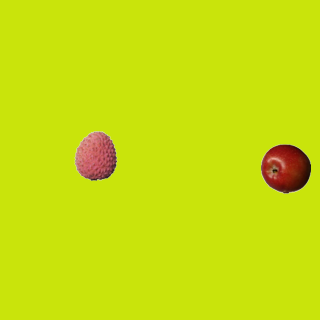Apple Braeburn: (260, 143, 310, 193)
Lychee: (70, 130, 120, 180)
